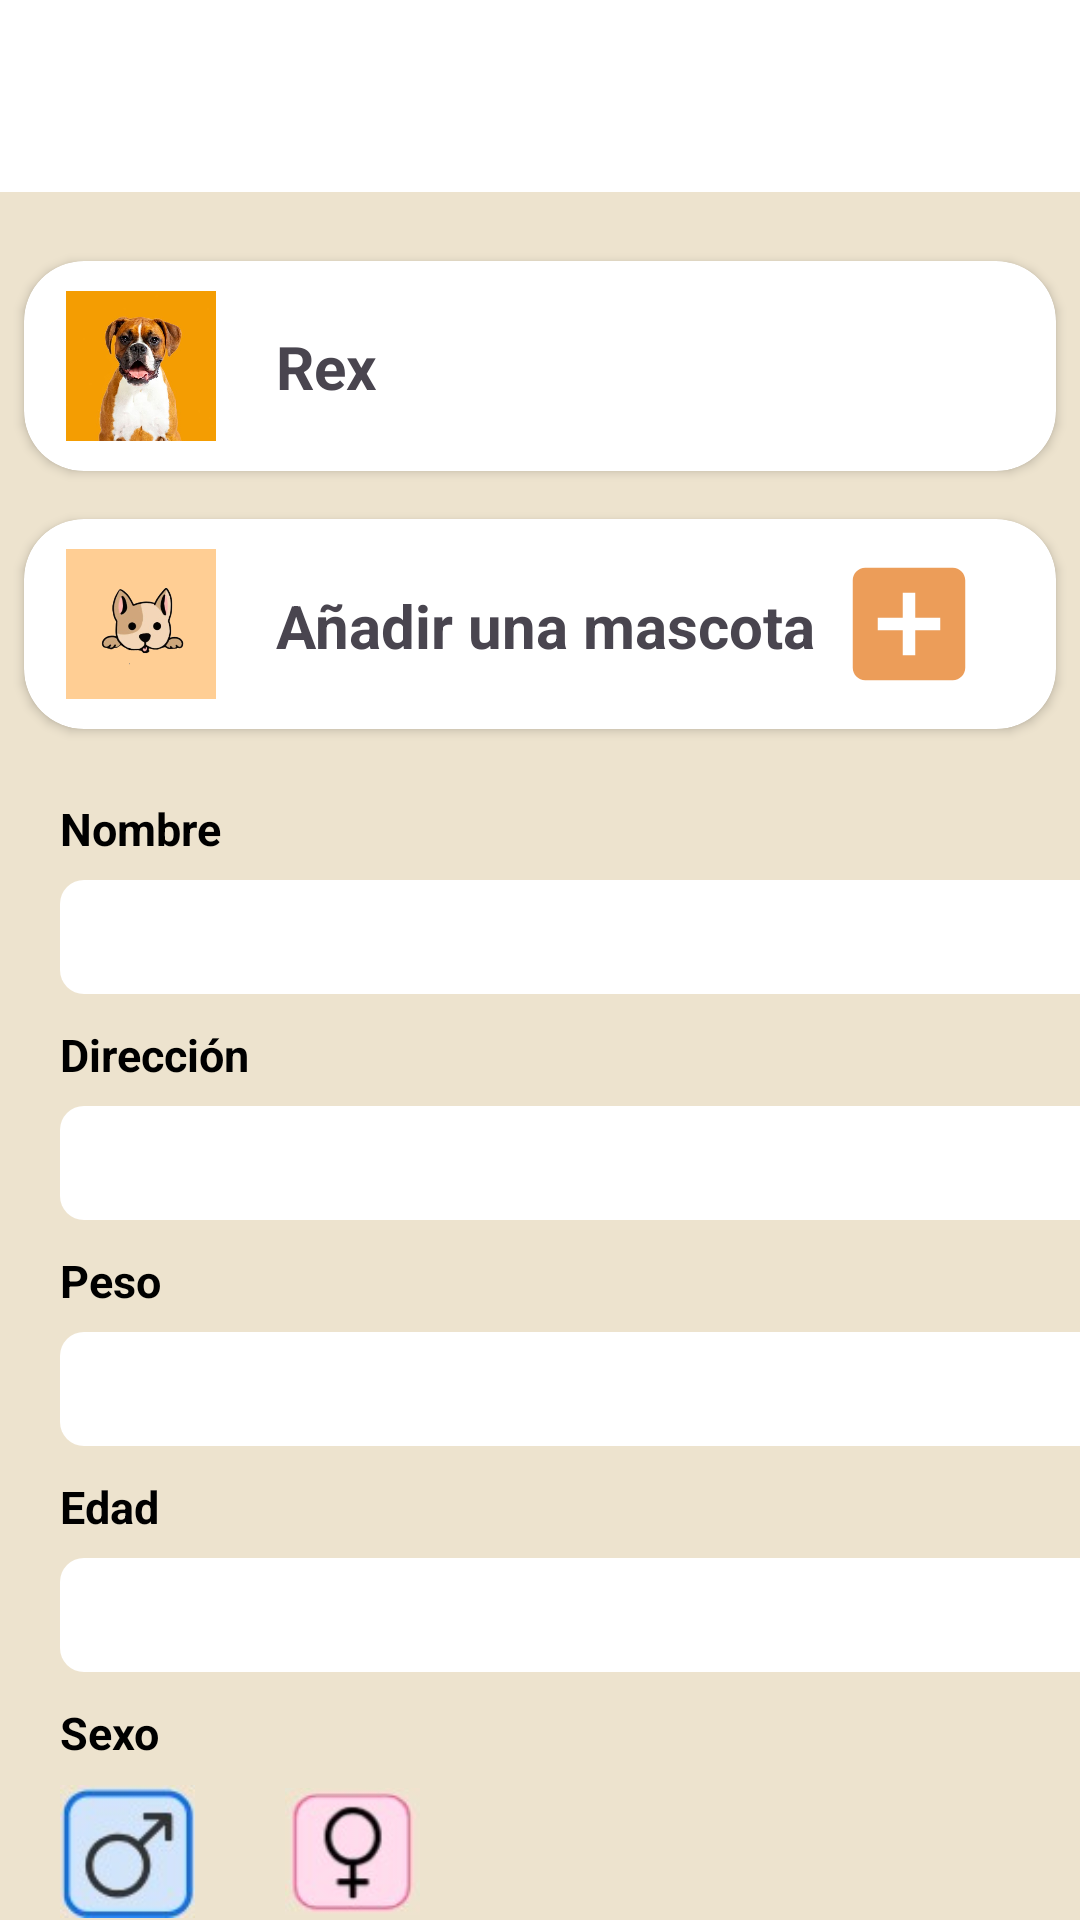

Icon bounding boxes for this 1080x1920 phone screenshot, format bbox=[x1, y1, x2, y2]:
add box: bbox=[852, 567, 966, 681]
perro: bbox=[66, 291, 216, 441]
